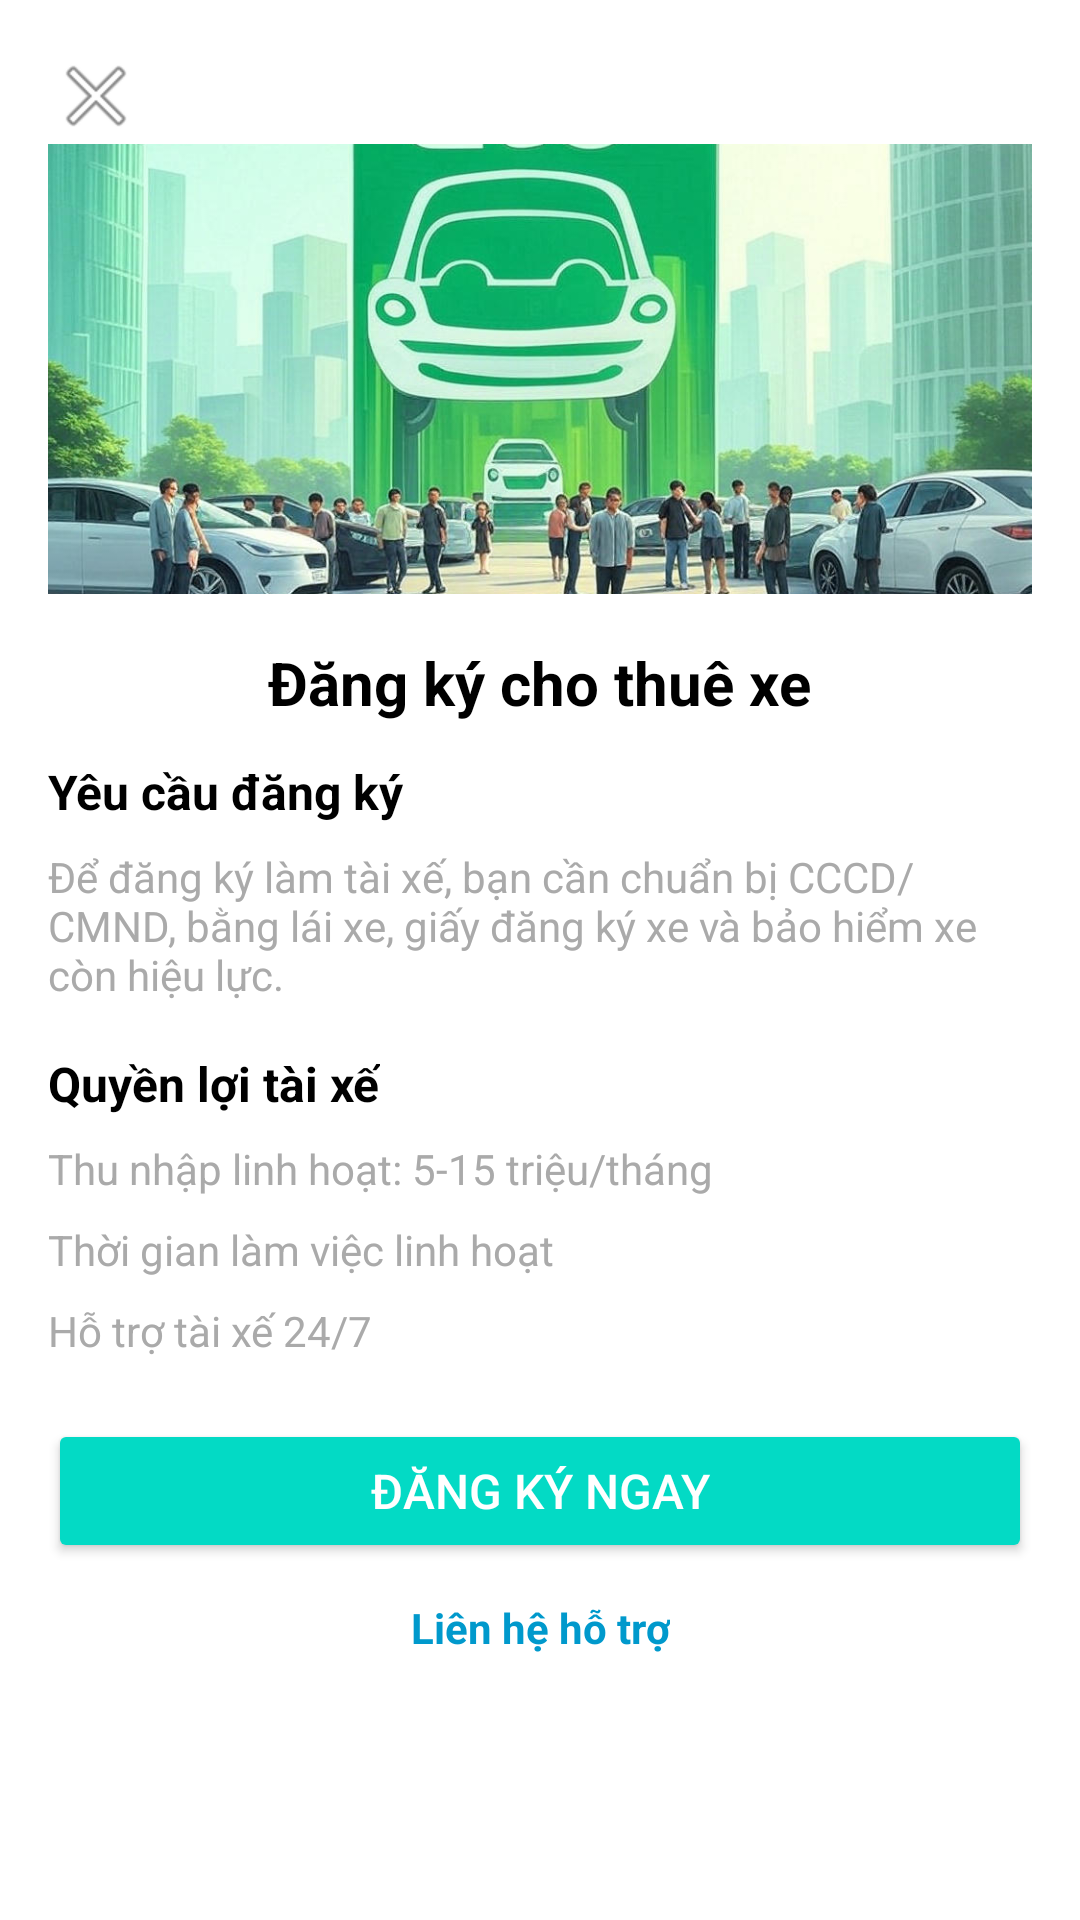

Icons on this 1080px×1920px Android screen, each with the point to tap as (x=x, y=y):
Đóng: (x=96, y=96)
